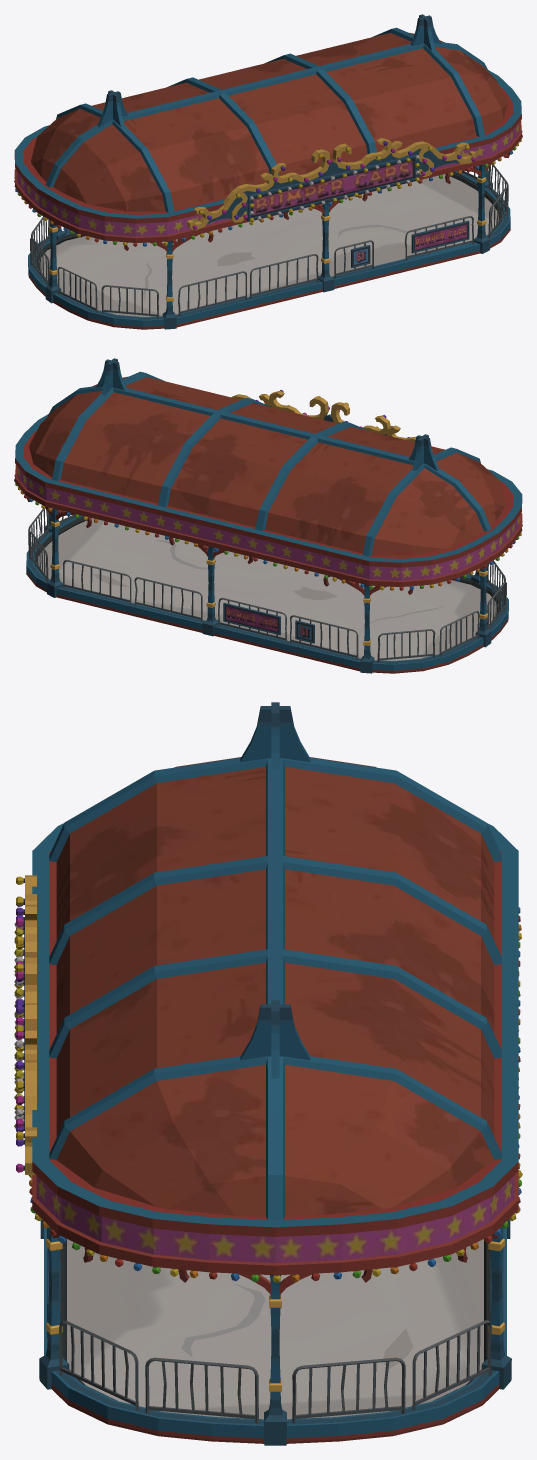
Rendered from bumper-arena.glb.
The picture shows the model from 3 angles, top to bottom: view 1: azimuth 30°, elevation 25°; view 2: azimuth 150°, elevation 25°; view 3: azimuth 270°, elevation 25°; orthographic projection. The views are drawn at different scales.
Visible parts, largest first — view 1: SM_Prop_Bumper_Car_Arena_01; view 2: SM_Prop_Bumper_Car_Arena_01; view 3: SM_Prop_Bumper_Car_Arena_01.
Part boxes in pixels (box(x1,y1,x2,y2)): SM_Prop_Bumper_Car_Arena_01: box(14, 14, 522, 329); SM_Prop_Bumper_Car_Arena_01: box(14, 358, 522, 673); SM_Prop_Bumper_Car_Arena_01: box(14, 702, 522, 1445).
Bounding box in the file's own units: 2086 × 828 × 1013.
1 material, 1 textured.
